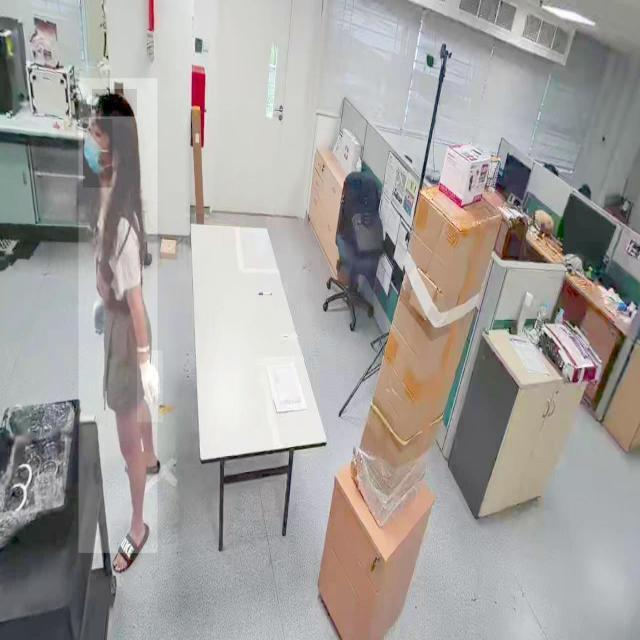face_mask: (83, 119, 113, 188)
hand_glove: (137, 350, 163, 423)
head_nohelmet: (92, 89, 138, 117)
person: (78, 78, 158, 554)
